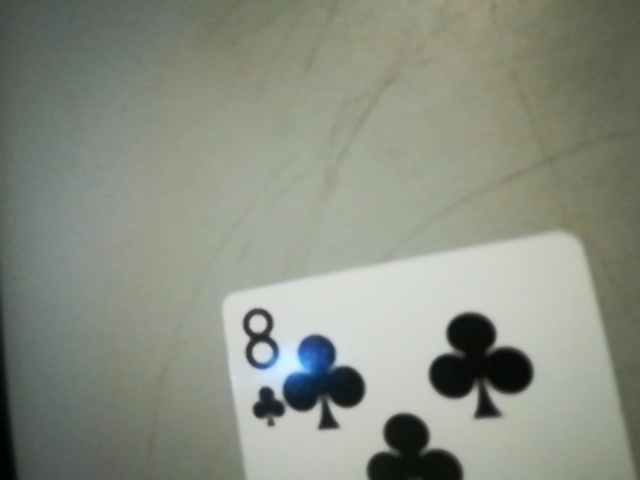mh 8: (222, 295, 291, 431)
